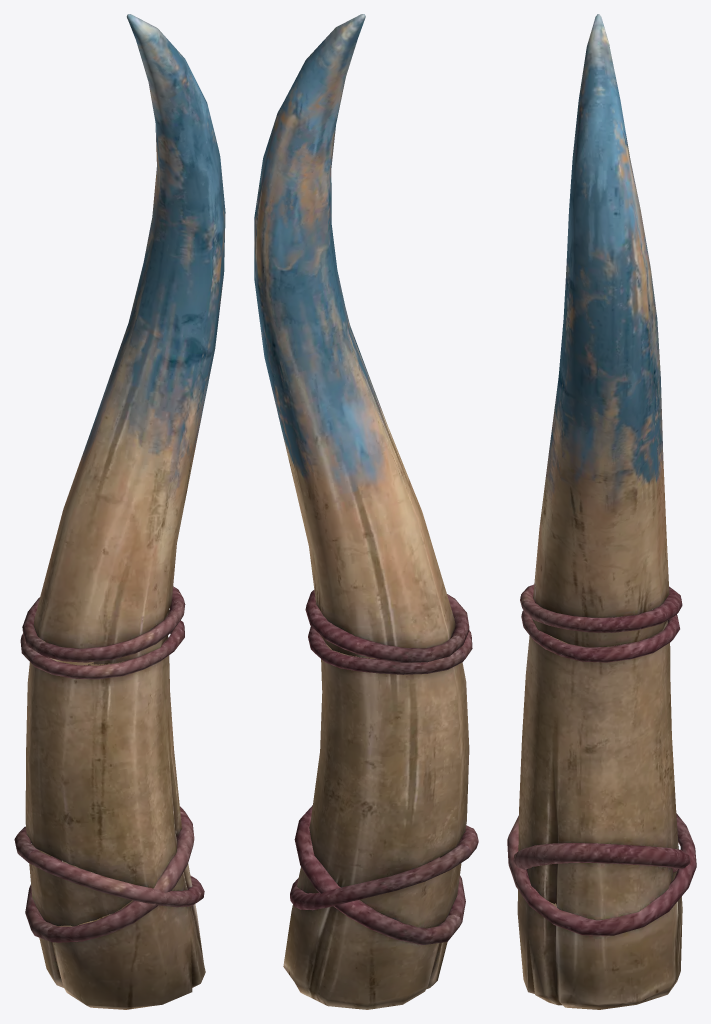
3 views of the same model, side by side, from view 1: azimuth 30°, elevation 25°; view 2: azimuth 150°, elevation 25°; view 3: azimuth 270°, elevation 25° (orthographic).
Visible parts, largest first — view 1: SM_Garou_Entrance_Tusk_01v1_LOD0; view 2: SM_Garou_Entrance_Tusk_01v1_LOD0; view 3: SM_Garou_Entrance_Tusk_01v1_LOD0.
Boxes of the visible parts, bbox=[...] form: SM_Garou_Entrance_Tusk_01v1_LOD0: bbox=[14, 14, 225, 1009]; SM_Garou_Entrance_Tusk_01v1_LOD0: bbox=[254, 14, 478, 1009]; SM_Garou_Entrance_Tusk_01v1_LOD0: bbox=[507, 14, 696, 1009].
Bounding box in the file's own units: 0.9918 × 4.52 × 0.7974.
1 material, 1 textured.
